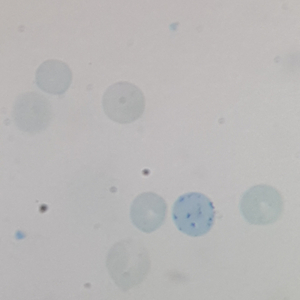aggregate reticulocyte: (171, 191, 218, 239)
erythrocyte: (104, 238, 154, 295), (99, 79, 148, 125), (237, 183, 285, 227), (10, 90, 54, 137), (128, 191, 171, 235), (33, 58, 74, 97)
